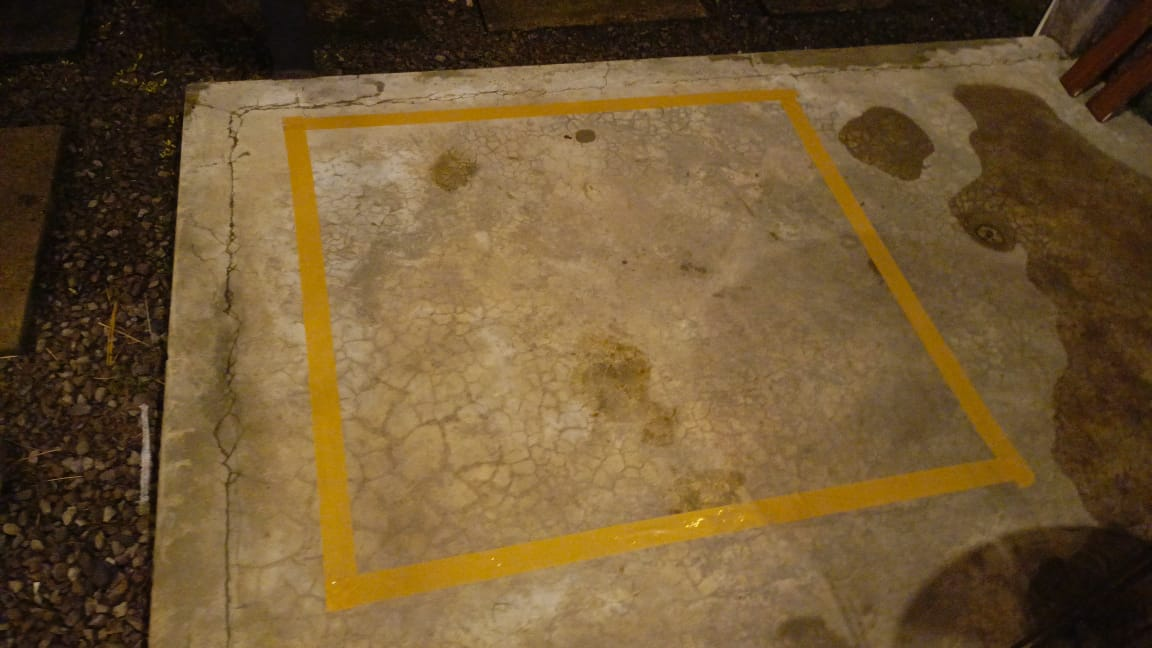floor marking: (283, 90, 1034, 610)
